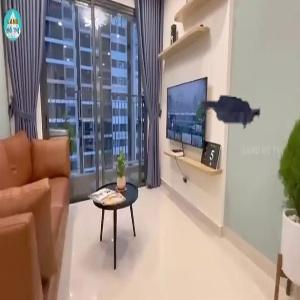drone: (187, 65, 282, 160)
